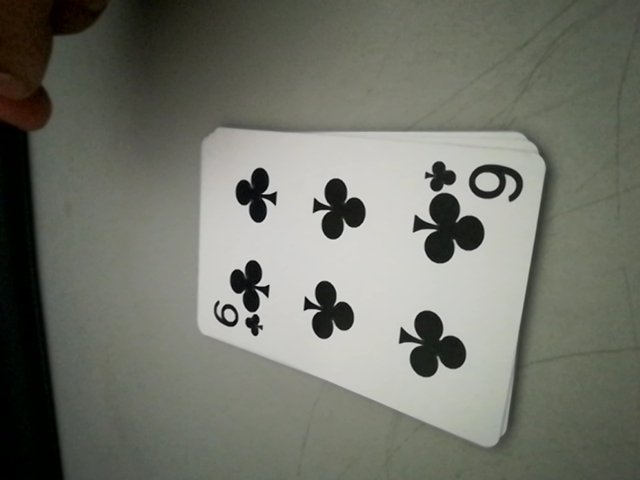mh 6: (424, 157, 529, 201), (209, 302, 267, 344)
